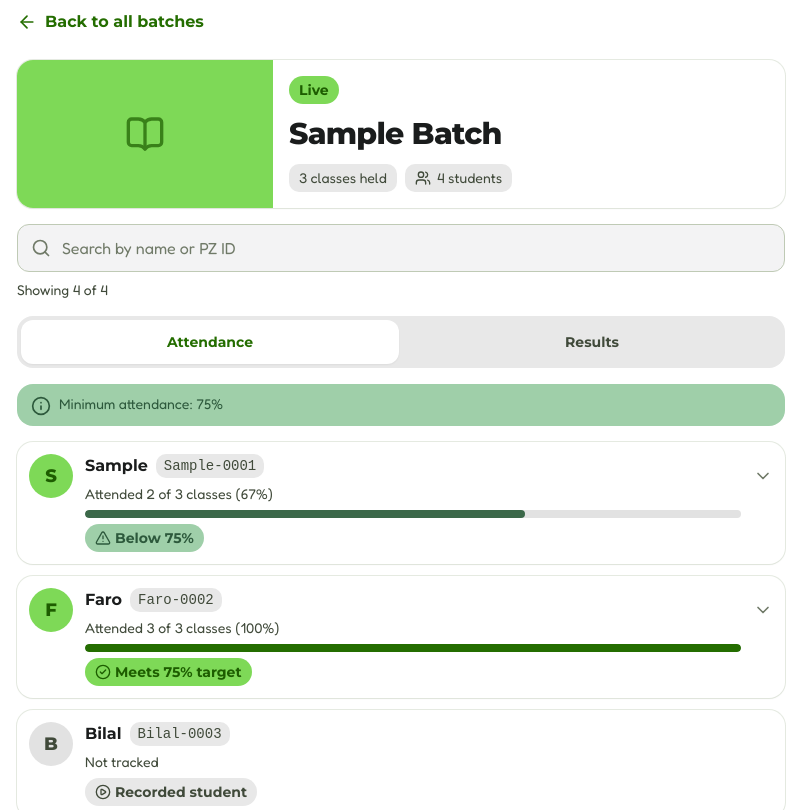
BatchPortal attendance › expands the class list inline and collapses it again
This screenshot has width=803, height=810.
Expected: the text "Class 3 - Topic 3" is not shown
Click the button "S Sample Sample-0001 Attended 2 of 3 classes (67%) Below 75%". click: (51, 476)
box: [17, 442, 785, 564]
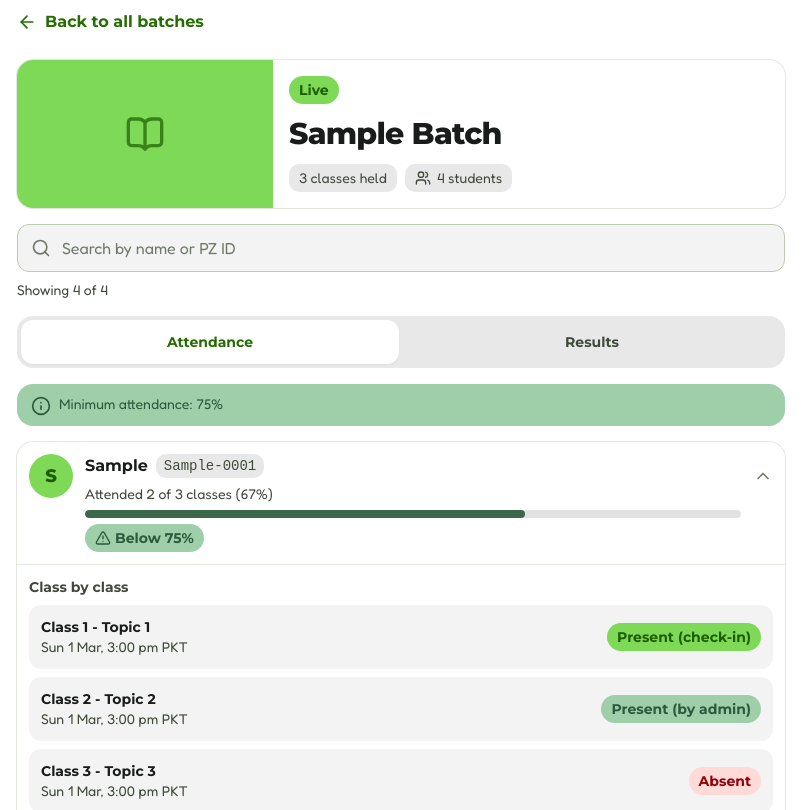
Expected: the button "S Sample Sample-0001 Attended 2 of 3 classes (67%) Below 75%" is expanded
Expected: the text "Class 1 - Topic 1" is shown, [41, 618, 150, 636]
Expected: the text "Present (check-in)" is shown, [607, 623, 761, 651]
Click the button "S Sample Sample-0001 Attended 2 of 3 classes (67%) Below 75%". click: (51, 476)
box: [17, 442, 785, 564]
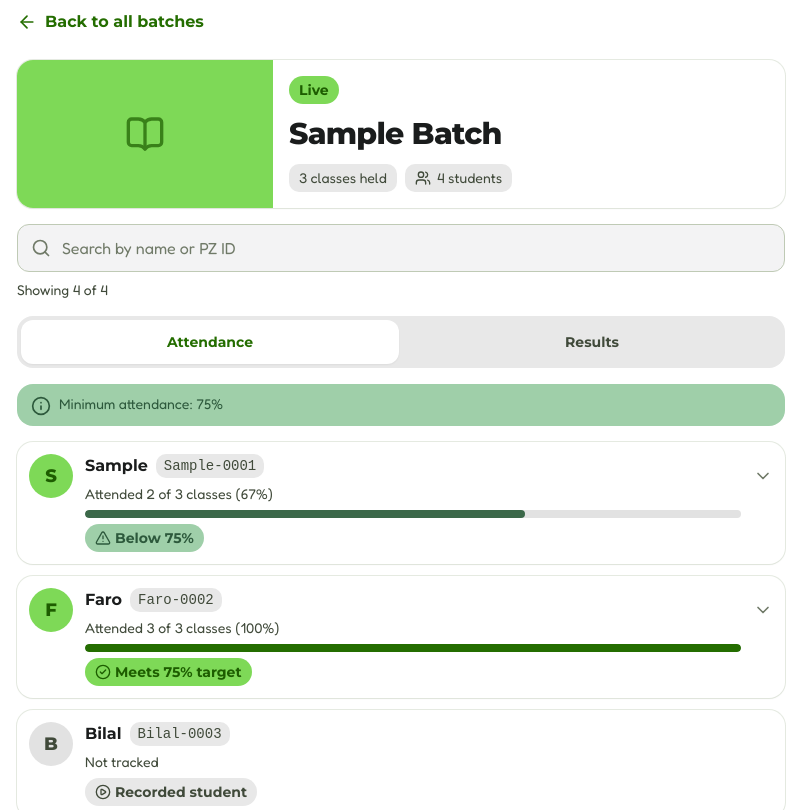
Expected: the text "Class 3 - Topic 3" is gone
